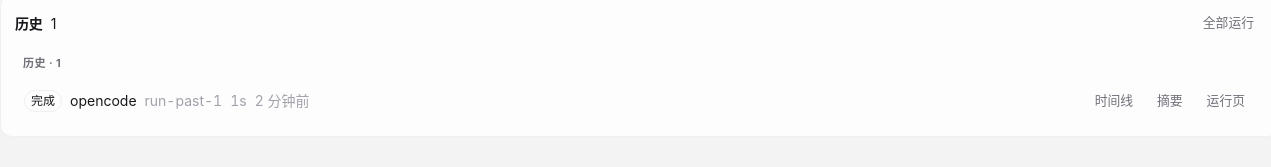
Scenario: IssueRunHistory execution controls › G3-3：点「摘要」行内展开 transcript 预览，再点收起
Click the button with test id "issue-run-history-preview". click: (1170, 100)
box: [1146,84,1194,116]
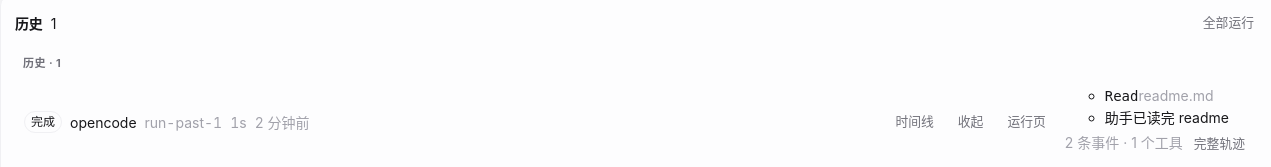
Check: the list item with test id "run-preview-tool" shows "Read", box [1105,88,1138,104]
Check: the list item with test id "run-preview-assistant" shows "已读完 readme", box [1133,108,1229,126]
Click the button with test id "issue-run-history-preview". click: (971, 122)
box: [947,106,994,138]
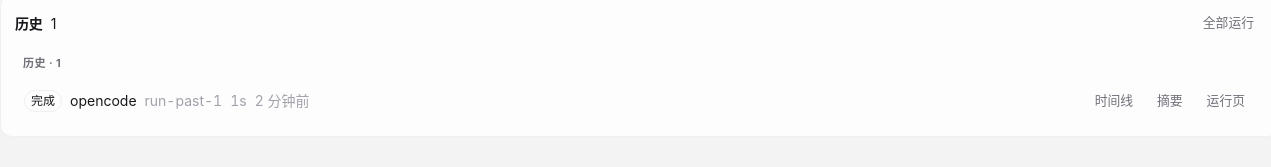
Check: the element with test id "issue-run-history-preview-panel" is gone
